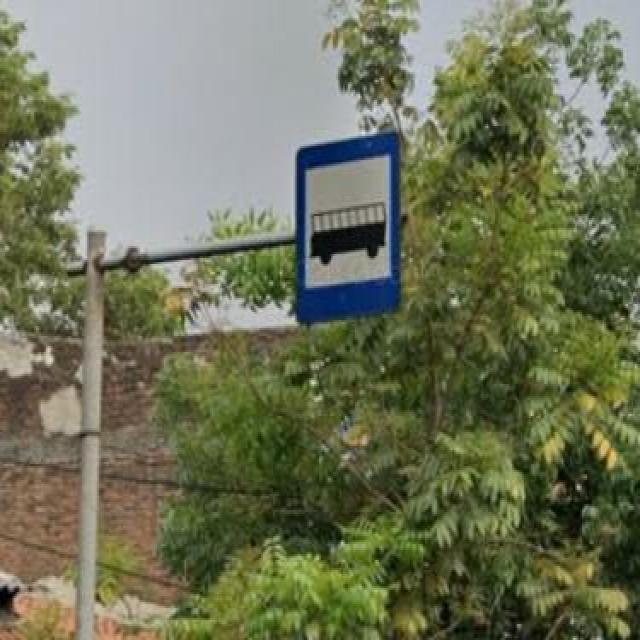traffic sign: (292, 134, 401, 324)
